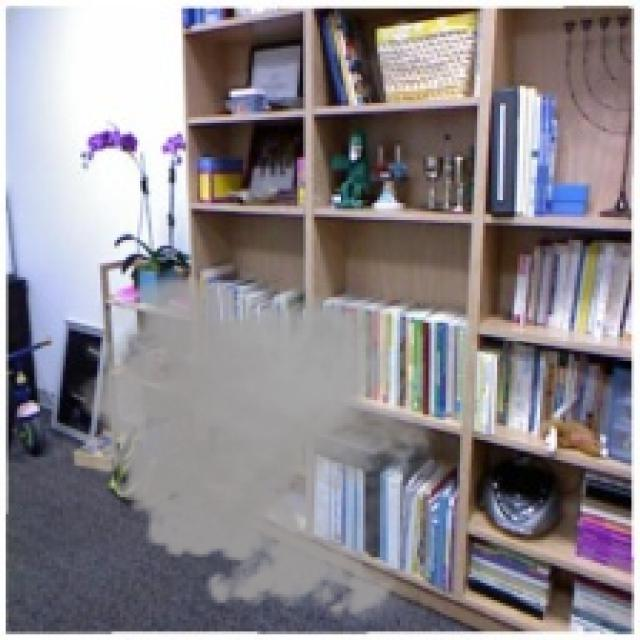smoke: (66, 263, 454, 628)
